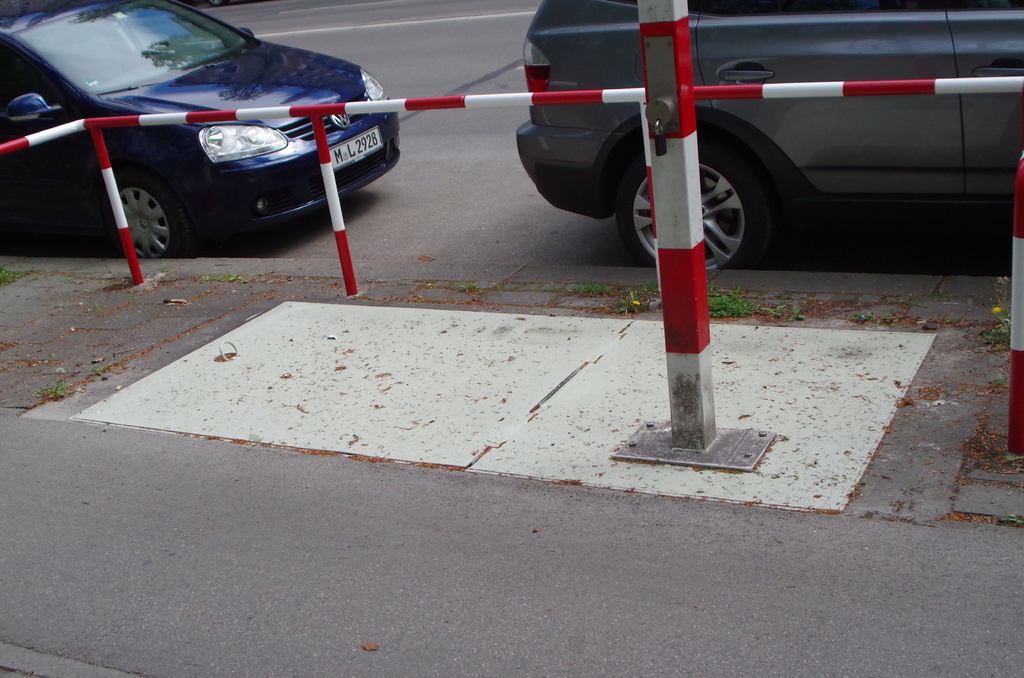cars: (512, 0, 1023, 268), (0, 14, 486, 251)
